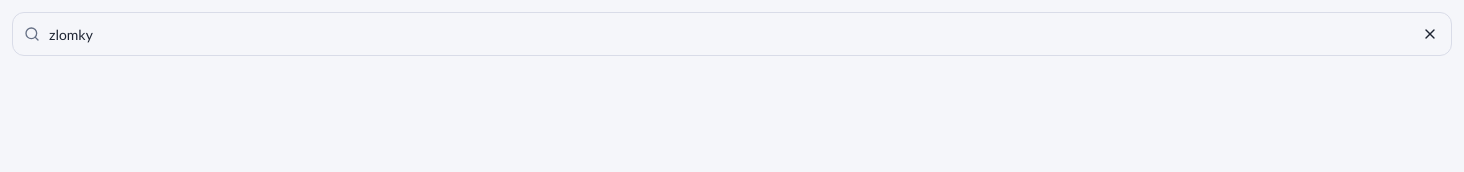
it: picker interactions › clears query with Escape and clear command
Press Escape in the field, box [12,12,1452,56]
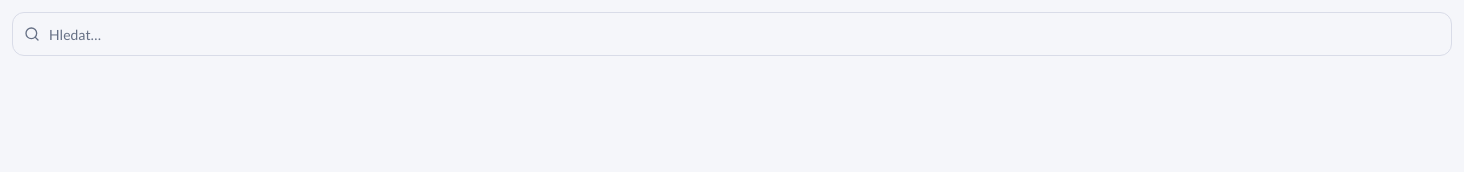
Result: the field is empty
Type "abc" into the field at (732, 34), box [12,12,1452,56]
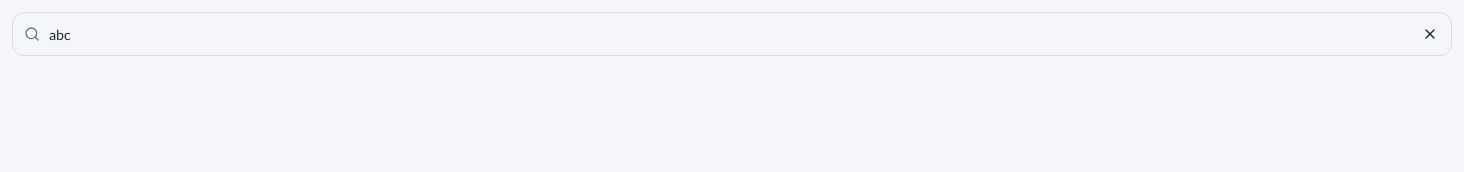
Click the button named "Vymazat hledání" at (1430, 34), box [1408,12,1452,56]
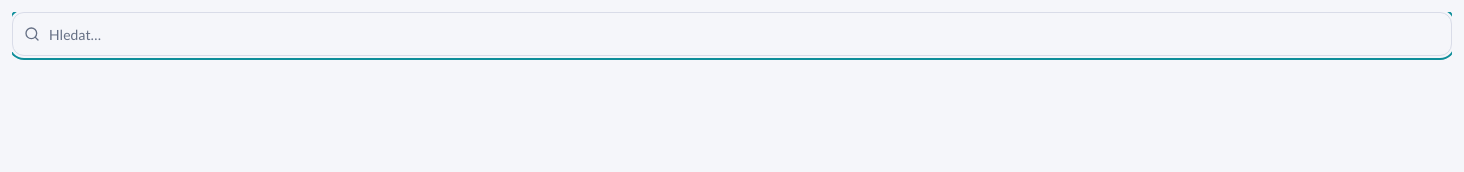
Result: the field is empty at [12,12,1452,56]
